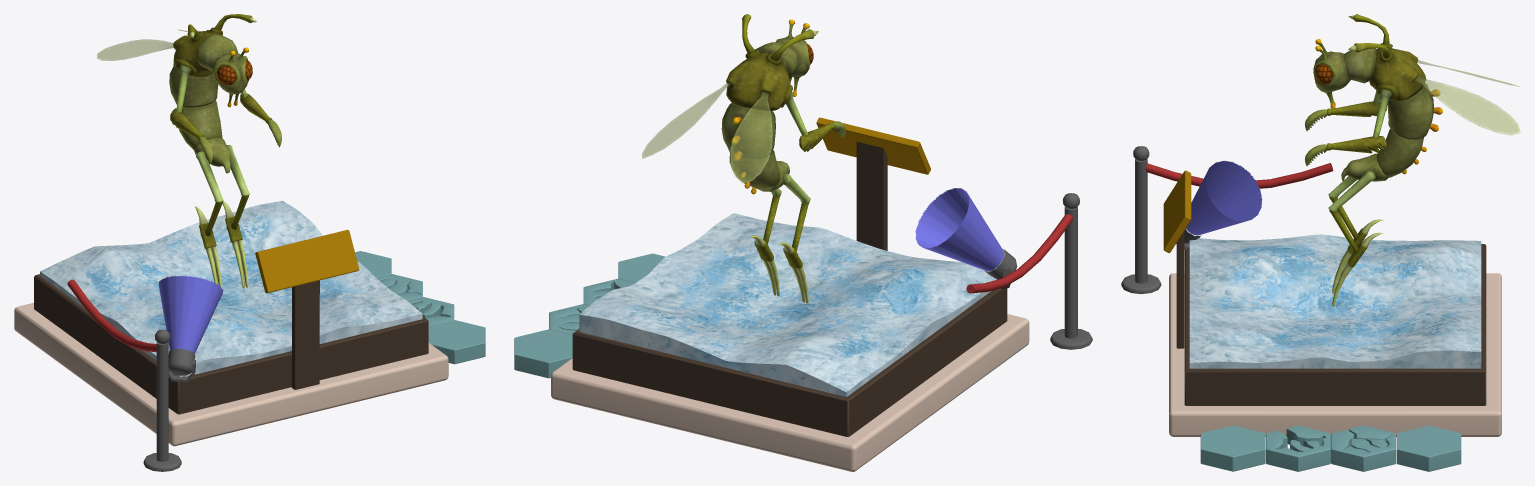
Rendered from Alien_and_ice.fbx.
3 views of the same model, side by side, from view 1: azimuth 30°, elevation 25°; view 2: azimuth 150°, elevation 25°; view 3: azimuth 270°, elevation 25° (orthographic). The views are drawn at different scales.
Parts seen in each view (by area): view 1: sand, platform, border, tablo, glow_light, colum, head, Spine_2, Spine_3, Spine_1, wing_R, rope (+9 smaller); view 2: sand, border, platform, tablo, glow_light, Spine_1, wing_R, colum, Spine_2, sota_0, wing_L, Spine_3 (+6 smaller); view 3: sand, border, platform, glow_light, tablo, sota_0, sota_1, sota_2, colum, wing_L, Spine_1, Spine_2 (+11 smaller).
Boxes of the visible parts, box(x1,y1,x2,y2) form: sand: box(40, 200, 422, 377); platform: box(14, 303, 448, 446); border: box(34, 274, 428, 414); tablo: box(255, 229, 359, 389); glow_light: box(158, 275, 223, 353); colum: box(143, 329, 181, 471); head: box(212, 47, 252, 107); Spine_2: box(169, 66, 218, 107); Spine_3: box(179, 100, 222, 150); Spine_1: box(173, 27, 222, 76); wing_R: box(97, 39, 173, 60); rope: box(67, 279, 156, 352); sand: box(579, 213, 996, 396); border: box(572, 288, 1007, 436); platform: box(551, 314, 1029, 471); tablo: box(816, 117, 930, 250); glow_light: box(915, 188, 1003, 271); Spine_1: box(726, 49, 792, 111); wing_R: box(730, 91, 772, 183); colum: box(1050, 193, 1092, 349); Spine_2: box(721, 103, 775, 161); sota_0: box(514, 329, 572, 378); wing_L: box(641, 83, 730, 158); Spine_3: box(729, 150, 780, 194); sand: box(1189, 234, 1481, 368); border: box(1184, 244, 1486, 405); platform: box(1169, 273, 1501, 436); glow_light: box(1186, 160, 1262, 235); tablo: box(1163, 170, 1191, 348); sota_0: box(1396, 425, 1461, 471); sota_1: box(1331, 425, 1395, 471); sota_2: box(1266, 425, 1330, 471); colum: box(1121, 146, 1161, 294); wing_L: box(1414, 76, 1520, 135); Spine_1: box(1369, 43, 1426, 101); Spine_2: box(1387, 83, 1442, 139).
Size of the model in its own units: 33.22 by 26.98 by 28.77.
